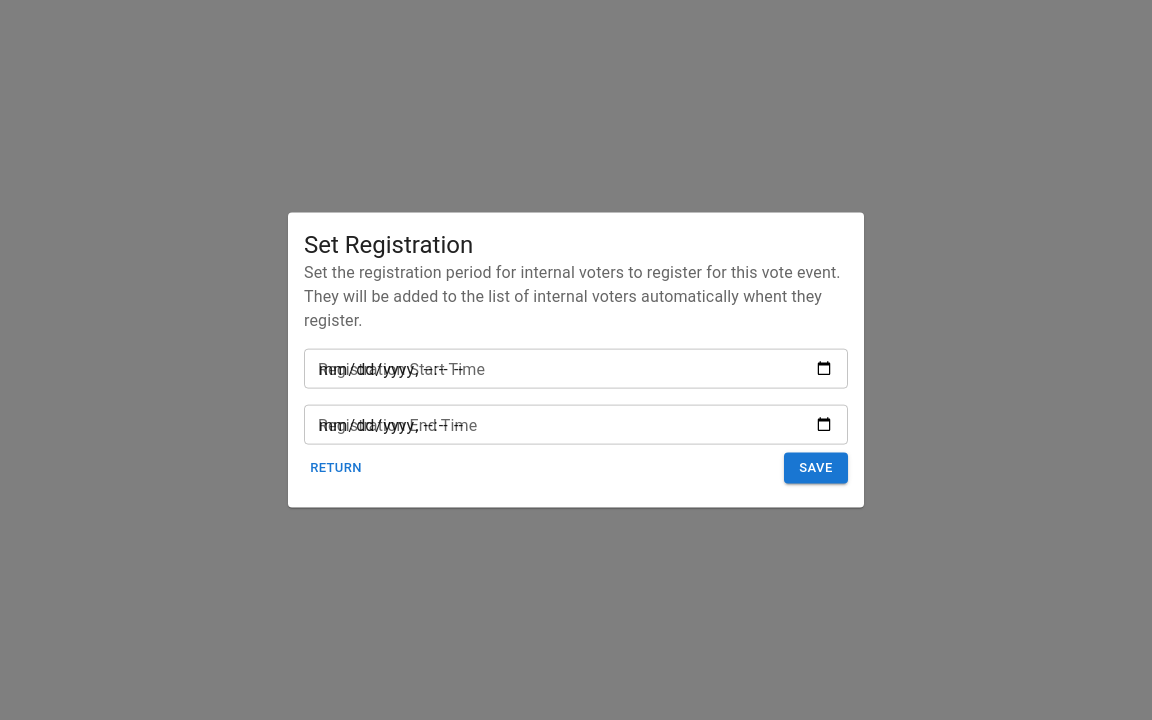
Scenario: <InternalVoterRegistrationModal /> › should not save if start time is greater than end time
Type "2022-03-01T00:00" into the field with id "registration-start-time-input" at point(576, 369), box x1=304 y1=349 x2=848 y2=389
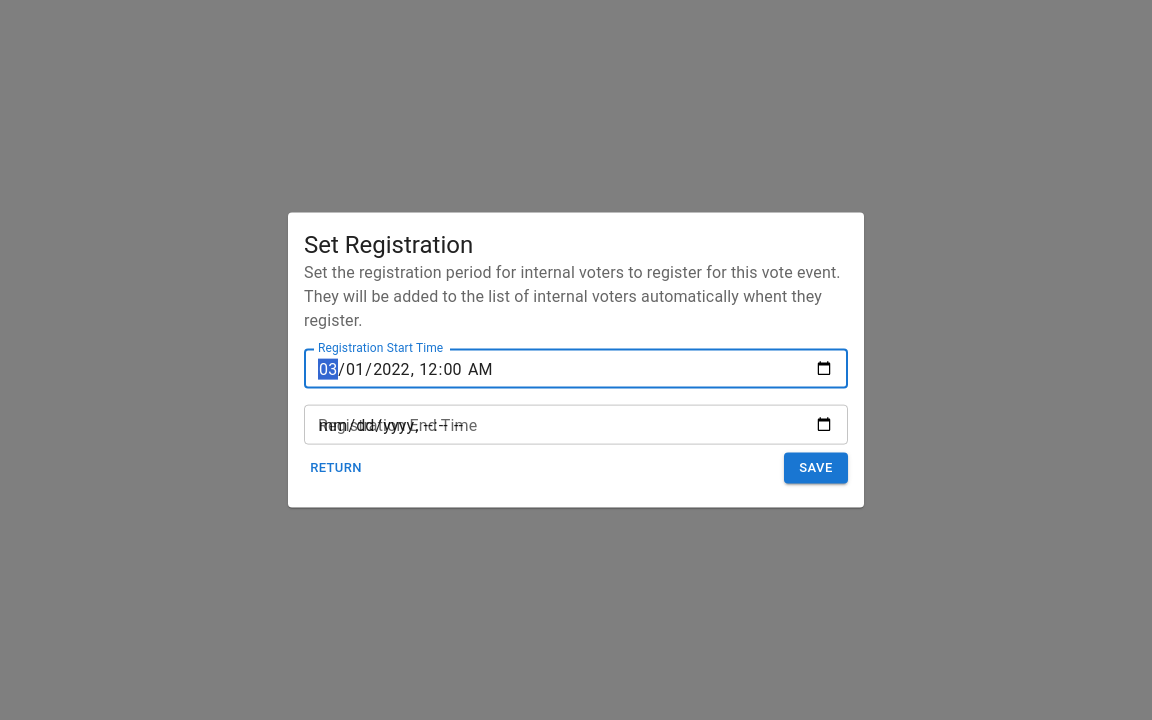
Type "2022-01-01T00:00" into the field with id "registration-end-time-input" at point(576, 425), box x1=304 y1=405 x2=848 y2=445
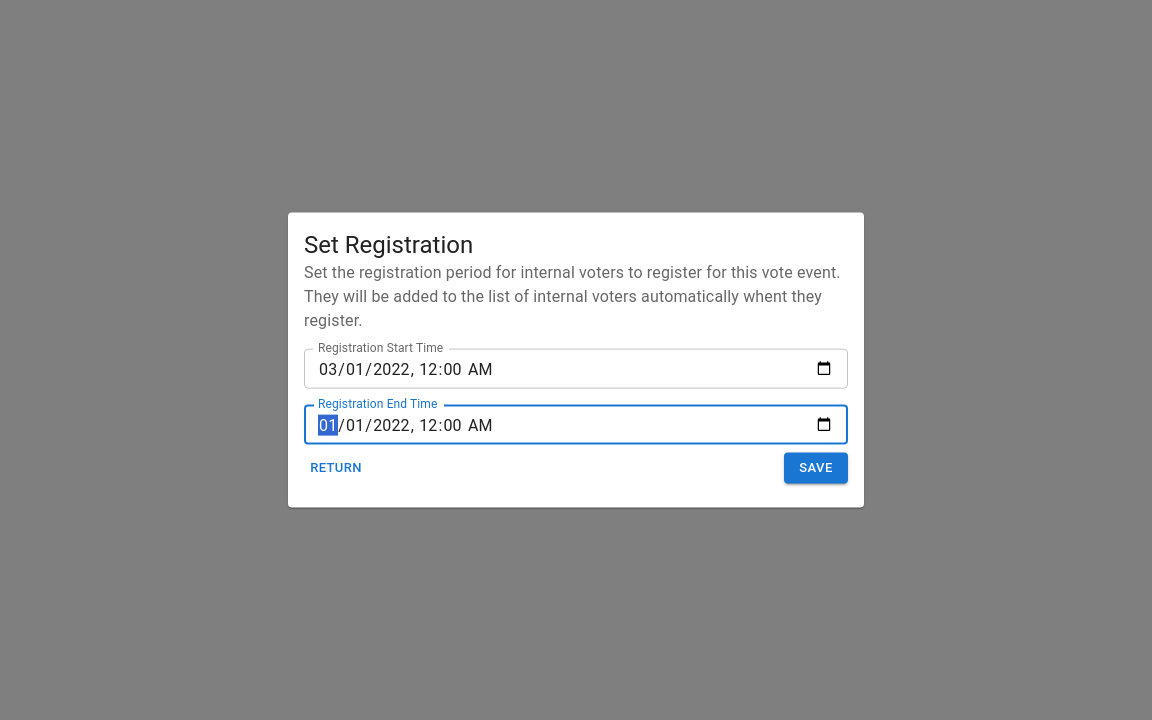
Click the button with id "save-registration-period-button" at point(816, 469), box x1=784 y1=453 x2=848 y2=484
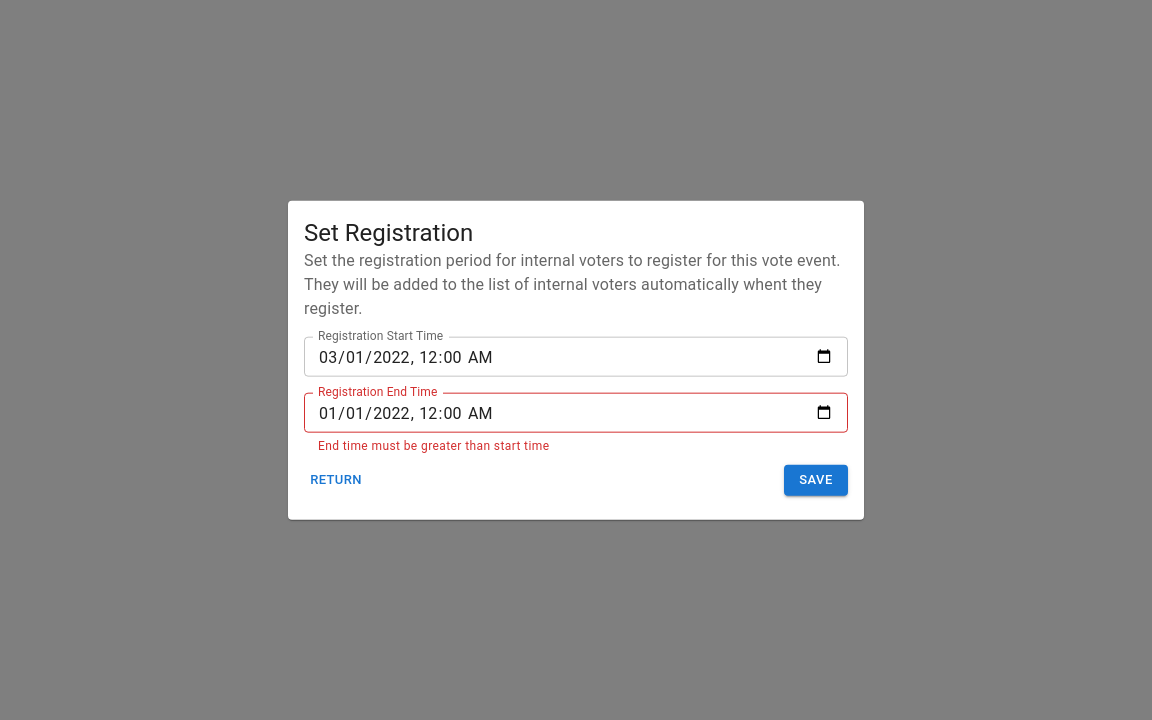
Now the text "End time must be greater than start time" is shown, box x1=318 y1=439 x2=549 y2=453
